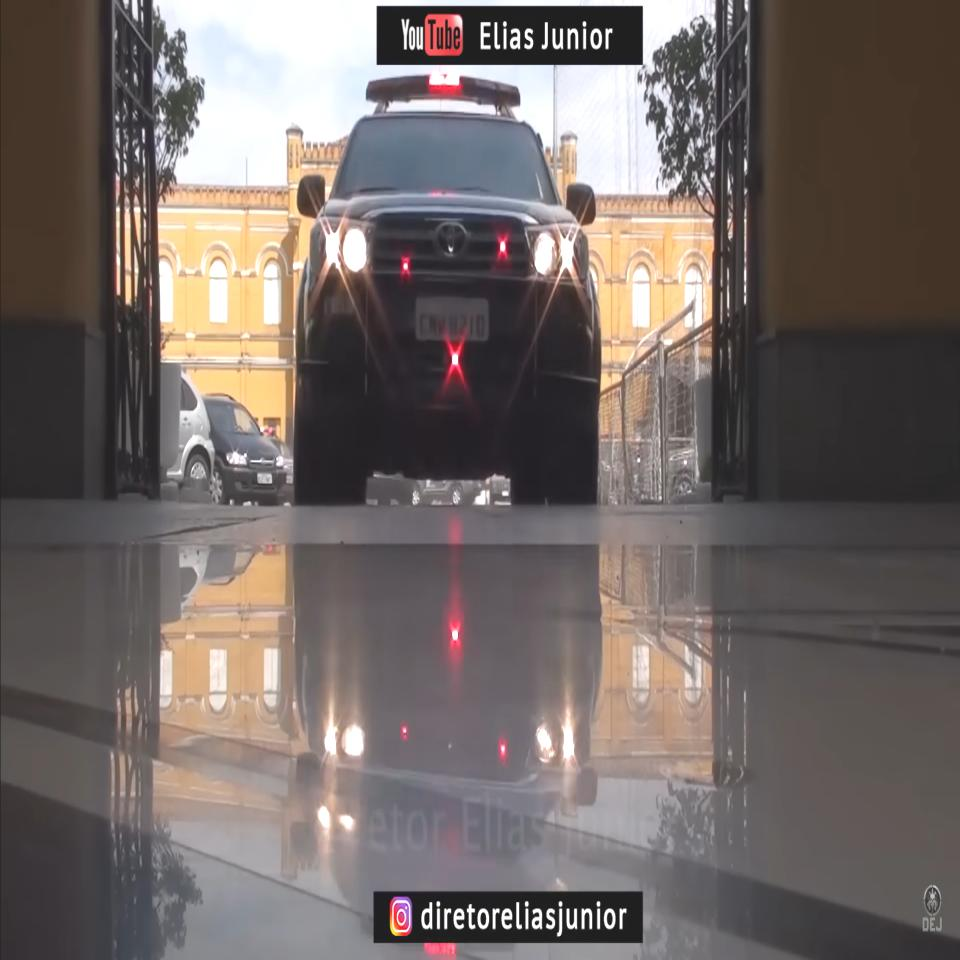viatura: (293, 73, 603, 510)
